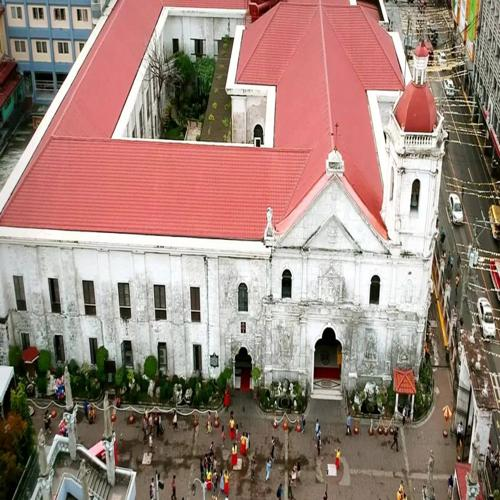Sto. Nino Basilica Church: (248, 36, 441, 435)
